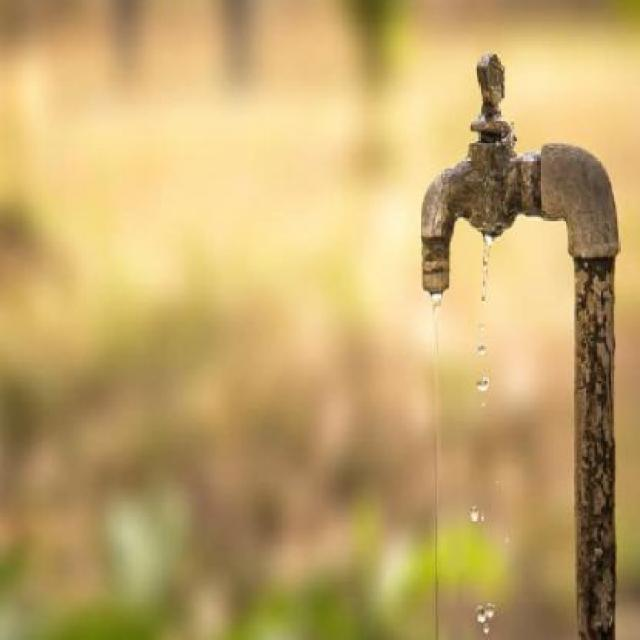water drop: (474, 605, 496, 634), (469, 504, 481, 524), (476, 375, 489, 390), (476, 344, 487, 356), (478, 323, 487, 334)
